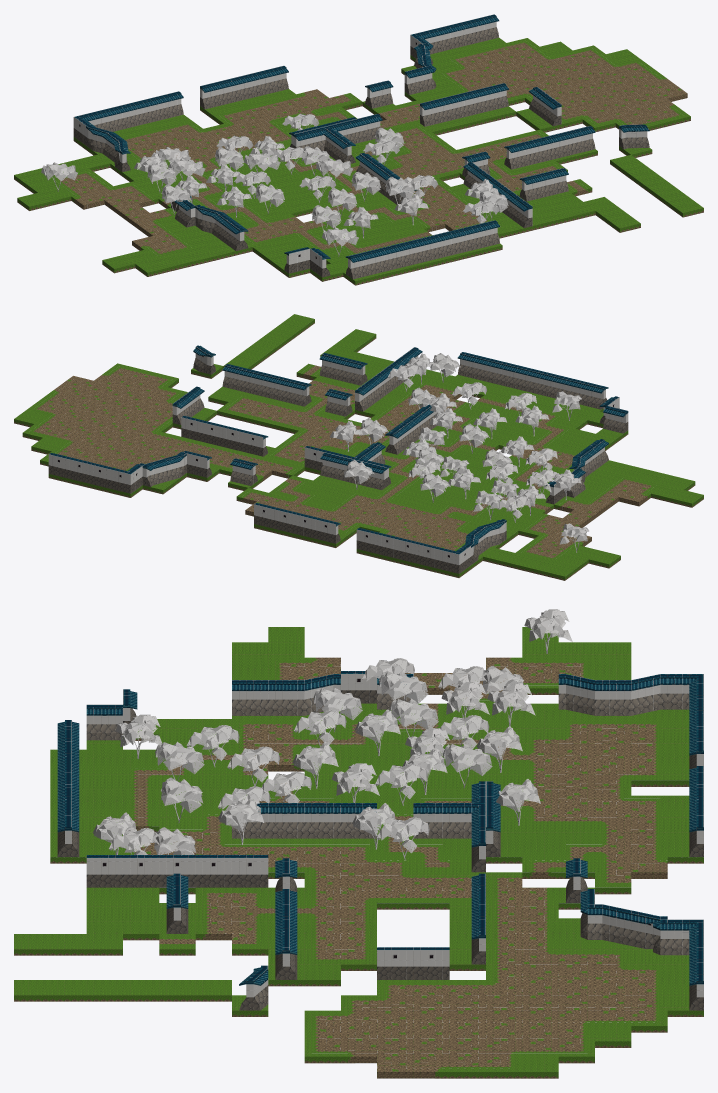
Rendered from ForestCastleV1.fbx.
3 renders of one model, top to bottom at view 1: azimuth 30°, elevation 25°; view 2: azimuth 150°, elevation 25°; view 3: azimuth 270°, elevation 25°, orthographic. The views are drawn at different scales.
Visible parts, largest first — view 1: FlatPath.NS.009_Cube.419; view 2: FlatPath.NS.009_Cube.419; view 3: FlatPath.NS.009_Cube.419.
Boxes of the visible parts, bbox=[...] form: FlatPath.NS.009_Cube.419: bbox=[14, 14, 703, 285]; FlatPath.NS.009_Cube.419: bbox=[14, 314, 703, 580]; FlatPath.NS.009_Cube.419: bbox=[14, 609, 703, 1078].
Bounding box in the file's own units: 29000 × 1414 × 19000.
